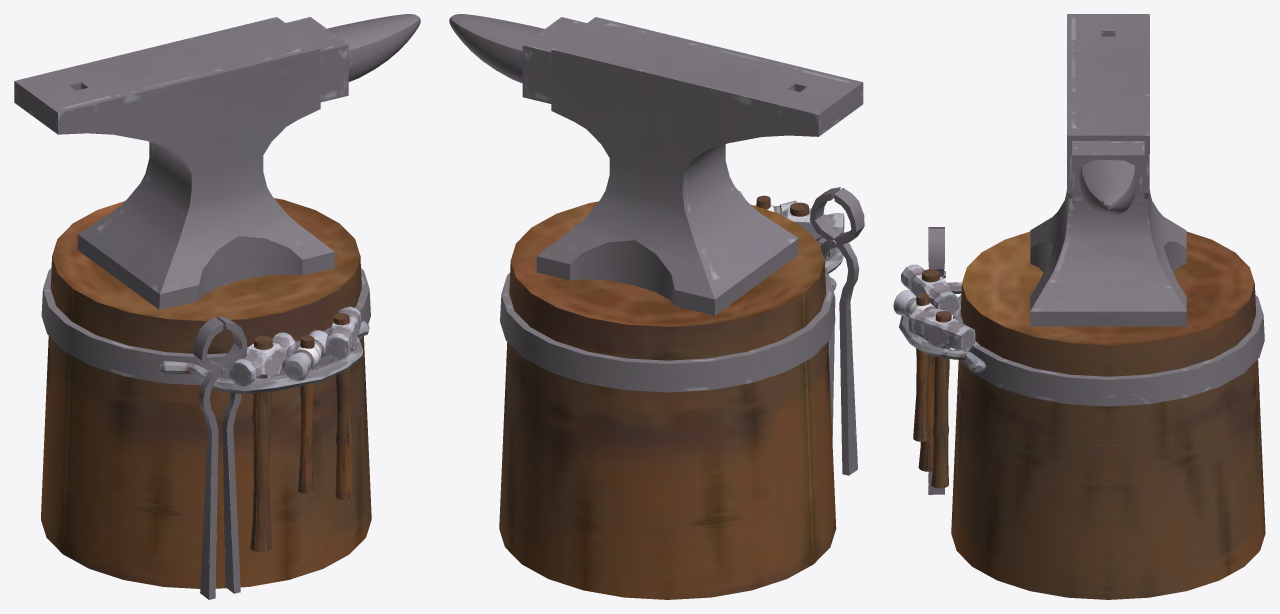
The model's file is Anvil_Log.glb.
3 renders of one model, left to right at view 1: azimuth 30°, elevation 25°; view 2: azimuth 150°, elevation 25°; view 3: azimuth 270°, elevation 25°, orthographic. The views are drawn at different scales.
Parts seen in each view (by area): view 1: Anvil_Log; view 2: Anvil_Log; view 3: Anvil_Log.
Boxes of the visible parts, left/top/right/bottom form: Anvil_Log: left=14, top=14, right=420, bottom=599; Anvil_Log: left=449, top=14, right=864, bottom=599; Anvil_Log: left=893, top=14, right=1265, bottom=599.
Size of the model in its own units: 0.9293 by 1.07 by 0.8214.
Materials: 3 (3 with a texture image).
